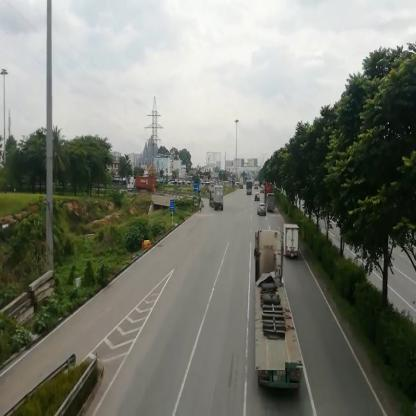car: (258, 206, 268, 217)
container: (256, 233, 286, 372), (128, 178, 156, 196), (210, 186, 224, 213)
truck: (284, 225, 299, 259), (268, 195, 276, 214)
